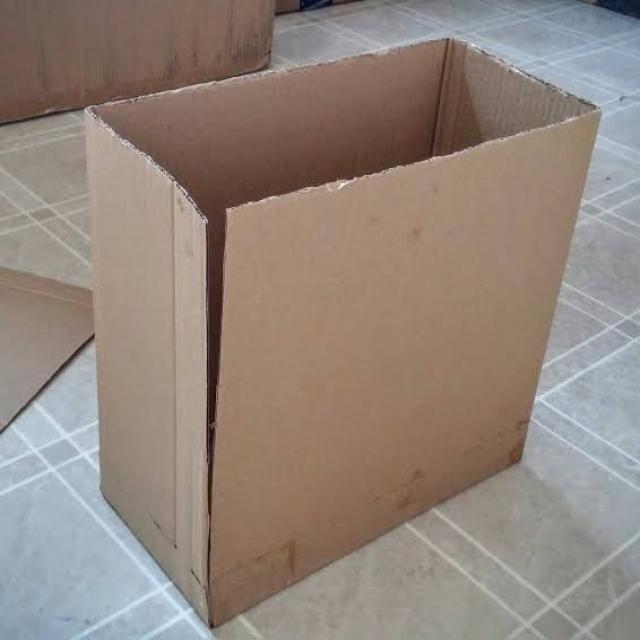cardboard: (73, 25, 606, 633)
